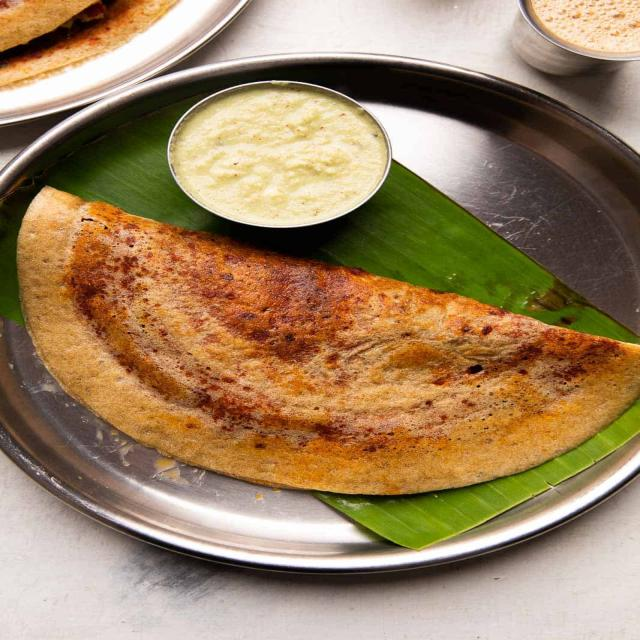plain dosa: (16, 189, 640, 494)
